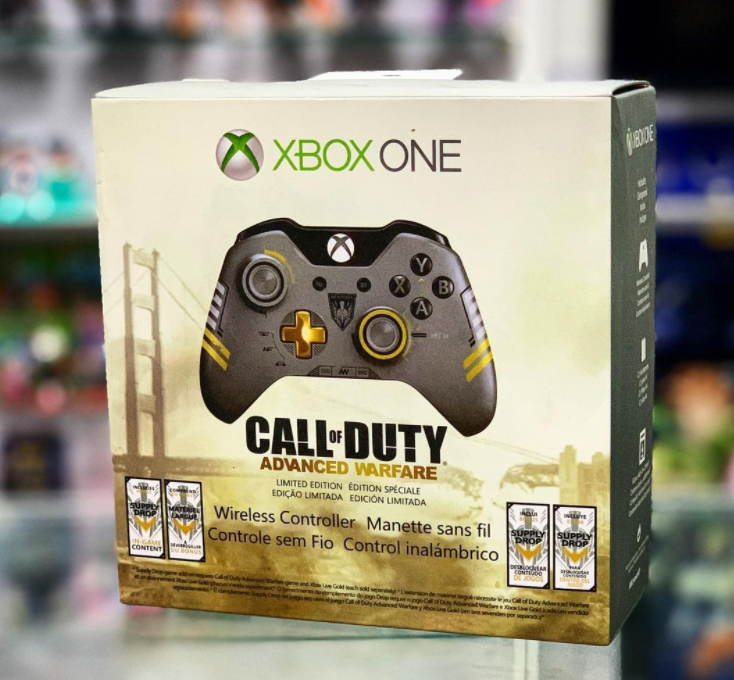gamingconsole: (201, 219, 495, 431)
